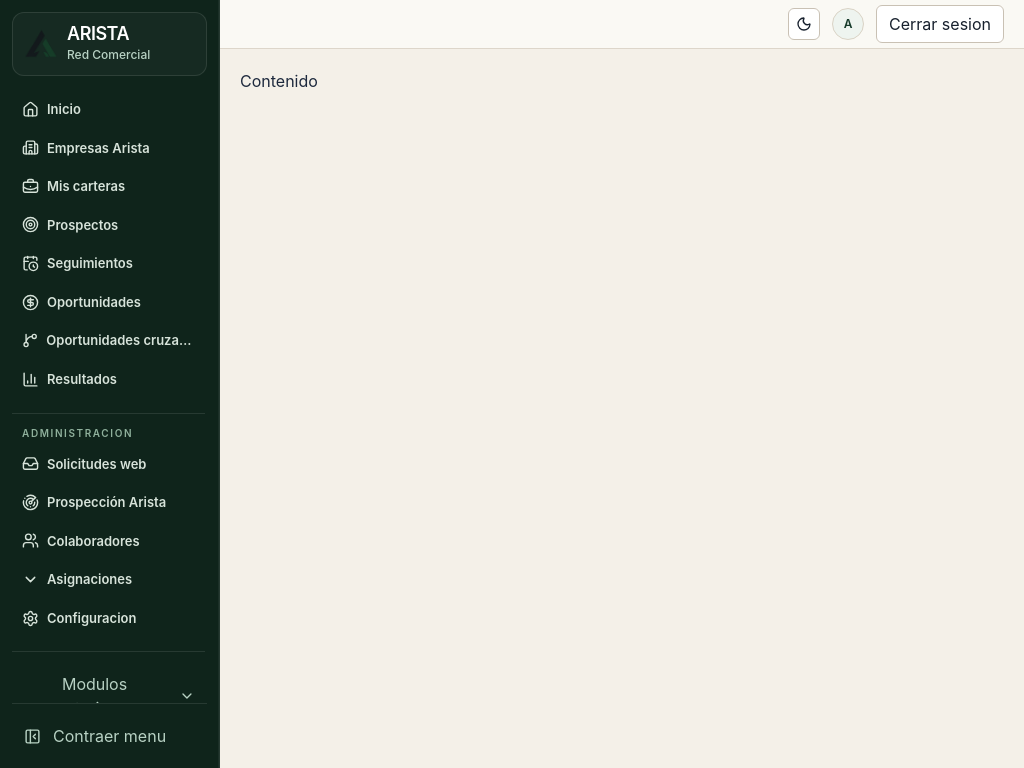
Test: AdminShell › mantiene el control de contraer visible y persiste el estado
The width and height of the screenshot is (1024, 768).
Click the button with aria-label "Contraer menú". click: (110, 736)
box: 12,716 -> 207,756
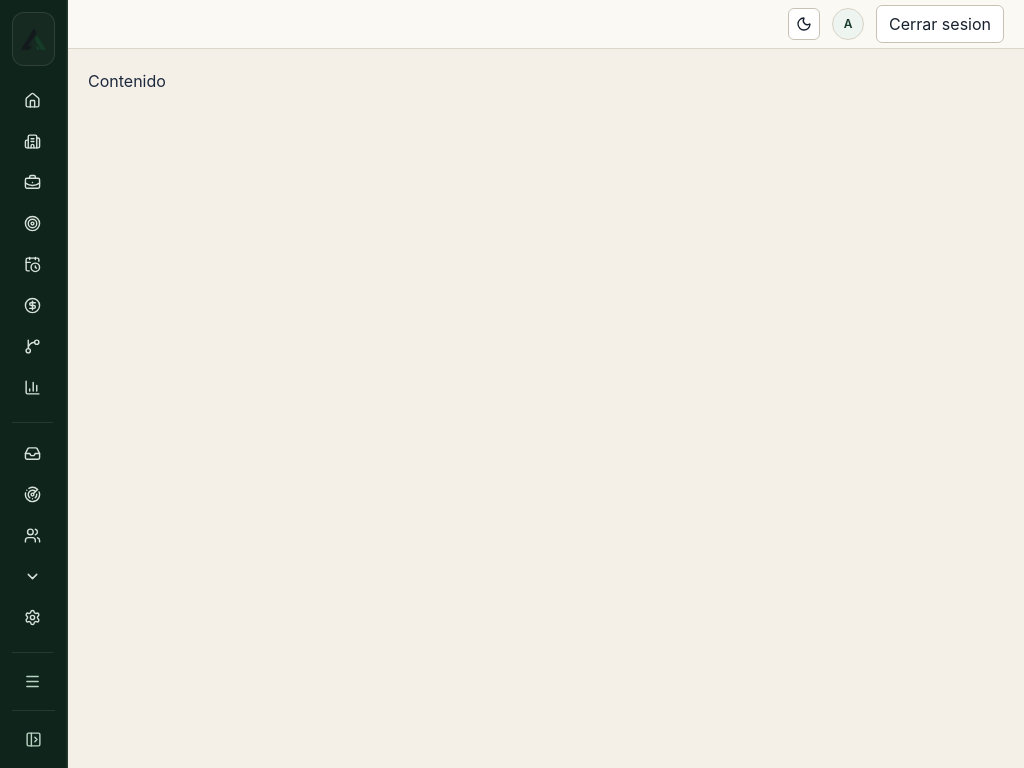
Result: the button named "Expandir menú" is shown at 12,723 -> 55,756
